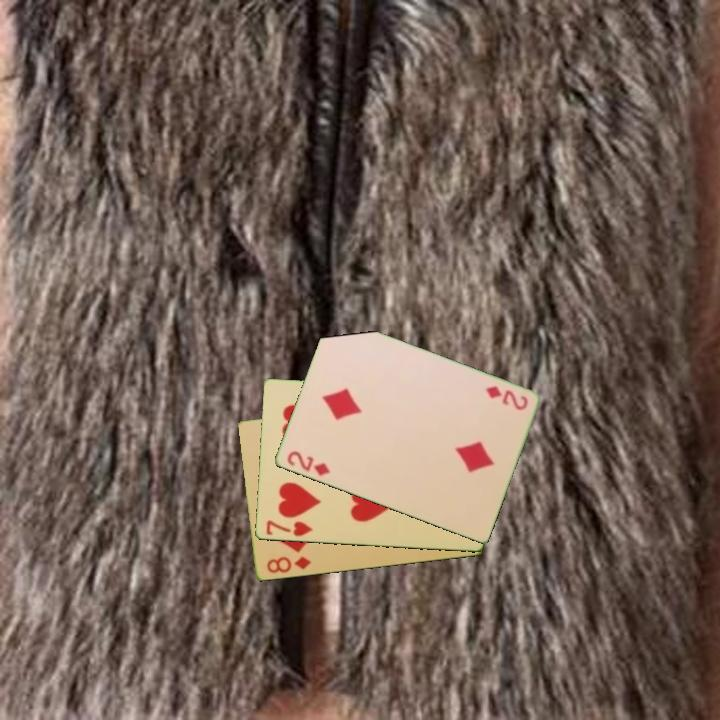2d: (283, 447, 333, 479), (482, 382, 530, 413)
7h: (262, 517, 315, 540)
8d: (263, 553, 314, 576)
